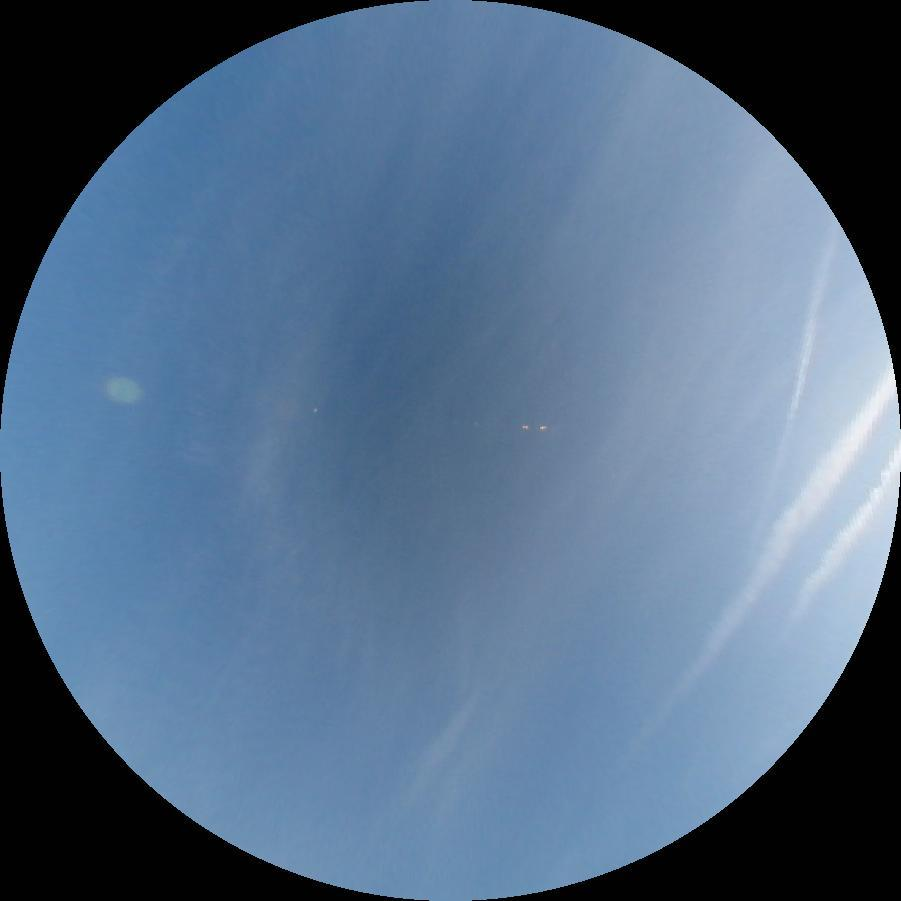contrail veryold: (602, 368, 901, 779)
unknow: (771, 222, 840, 467)
